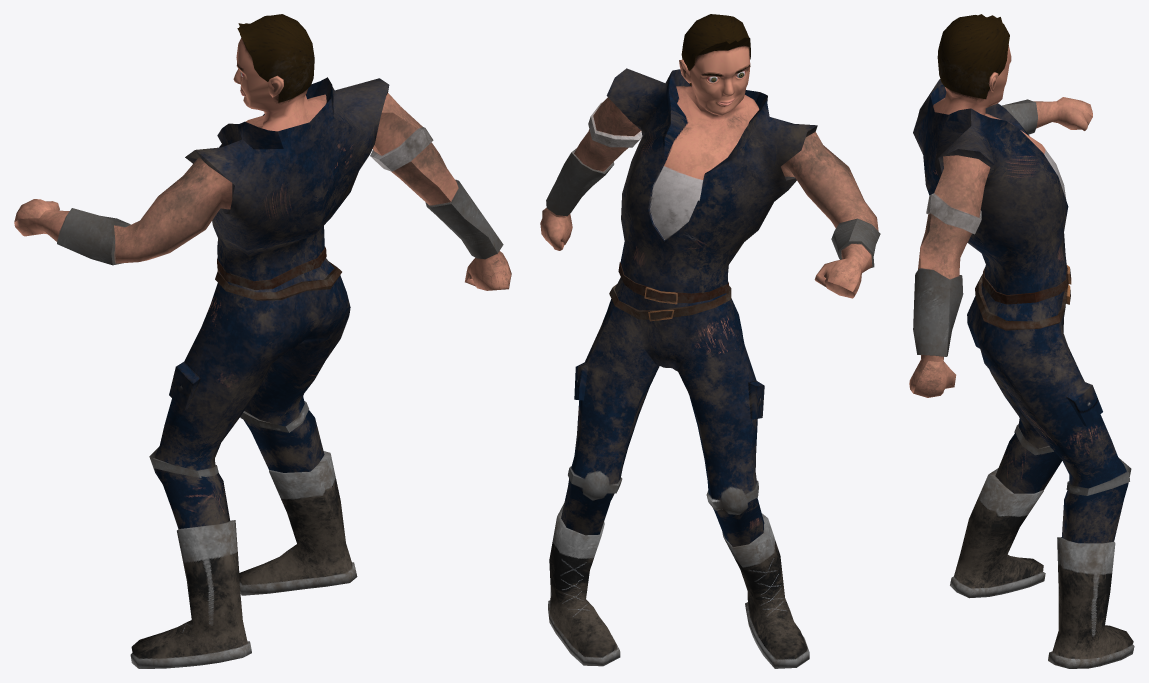
The model's file is Anim_ataque_f3_jugador.0037.obj.
3 views of the same model, side by side, from view 1: azimuth 30°, elevation 25°; view 2: azimuth 150°, elevation 25°; view 3: azimuth 270°, elevation 25° (orthographic). The views are drawn at different scales.
Visible parts, largest first — view 1: polySurface1; view 2: polySurface1; view 3: polySurface1.
Boxes of the visible parts, x1,y1,x2,y2 form: polySurface1: (14,14,511,668); polySurface1: (540,14,880,668); polySurface1: (909,14,1134,668).
Size of the model in its own units: 6.27 by 9.29 by 3.12.
